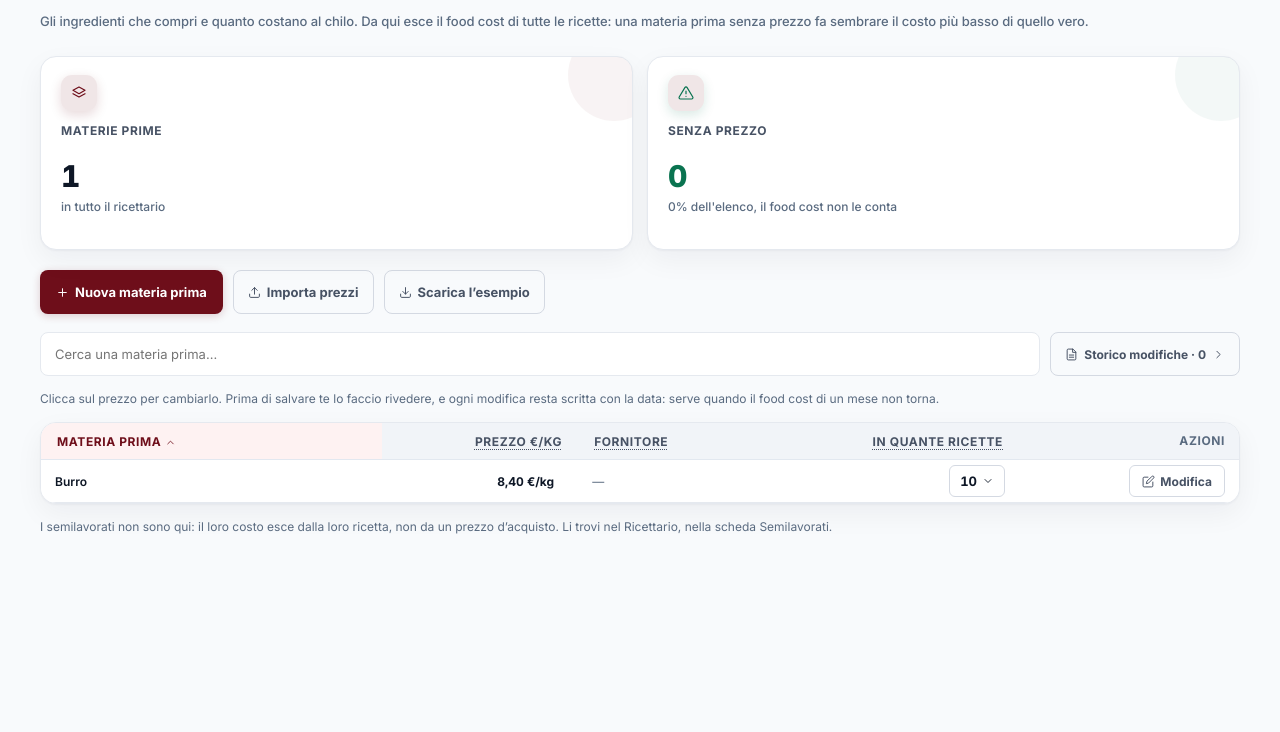
it: nessun prezzo inventato nei campi vuoti › l’esempio «12,50» resta dove serve: nel messaggio di errore
The image size is (1280, 732).
Click the button "Modifica": (1177, 481) [1129, 465, 1225, 497]
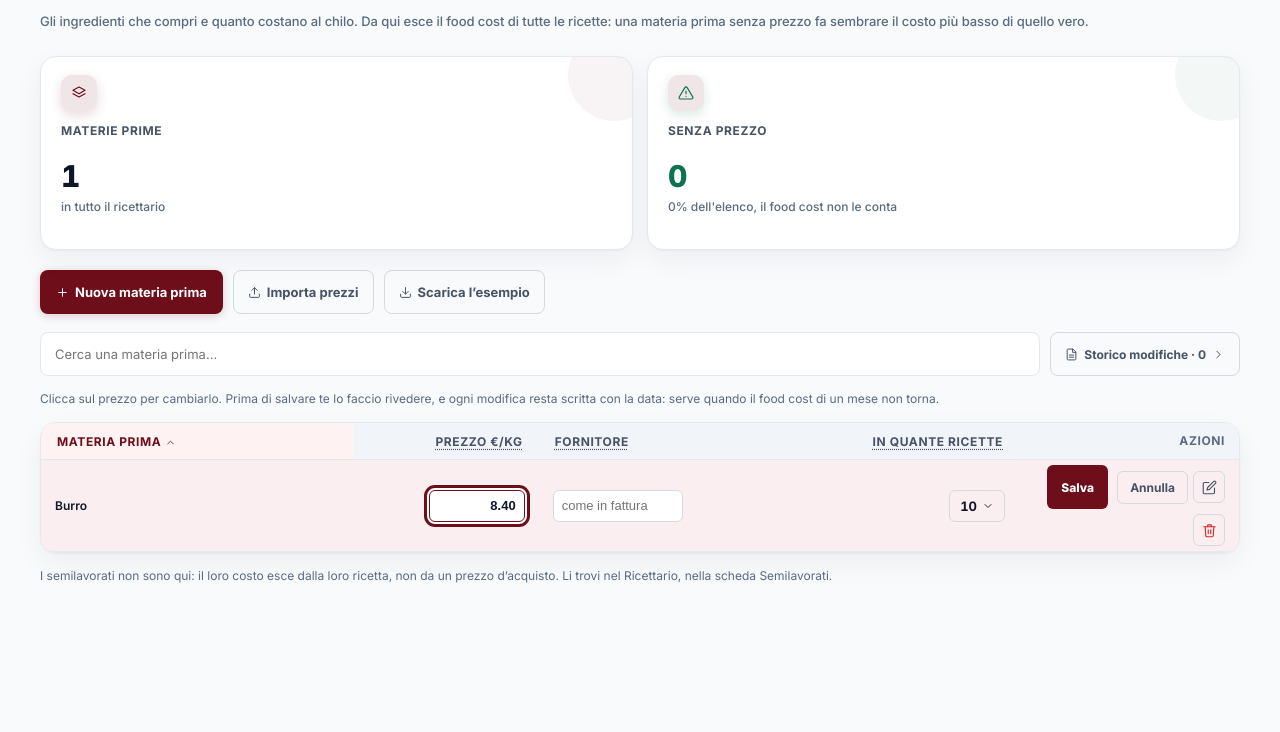
Replace the text in the field named "Prezzo per chilo di burro" with "12,5o": (477, 506) [429, 490, 525, 522]
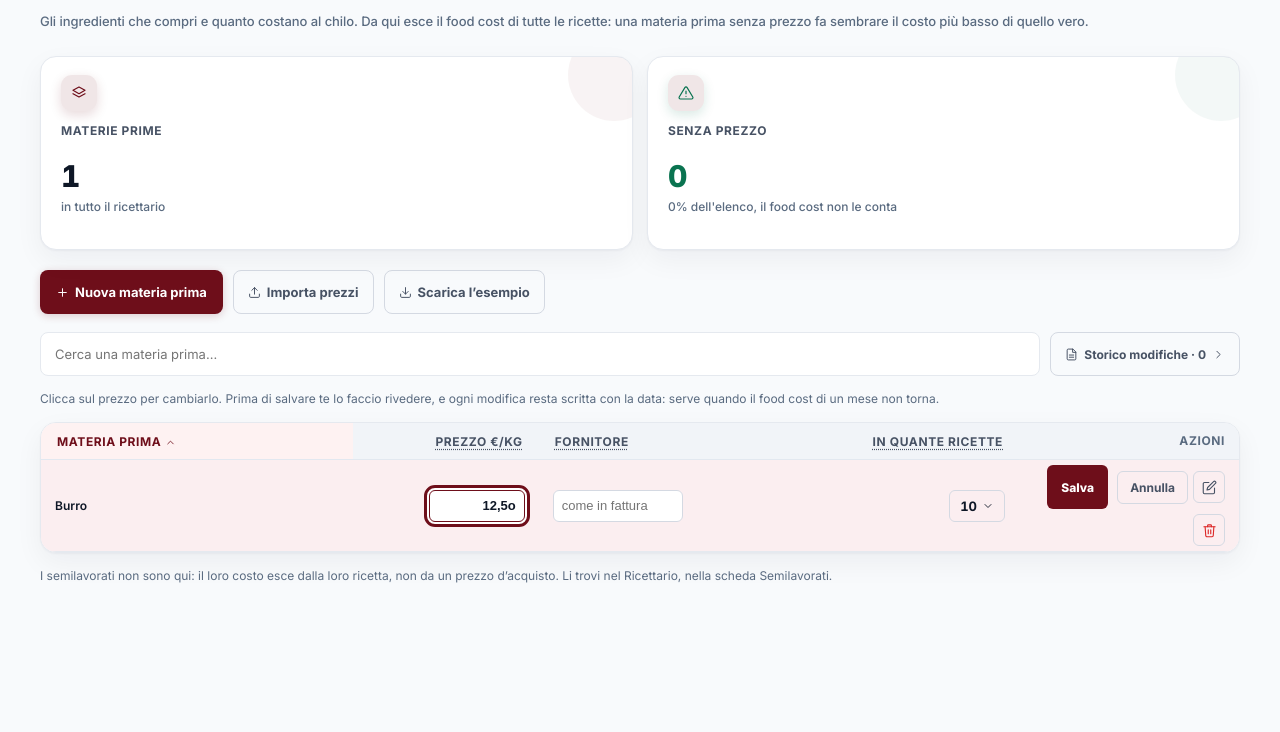
Click the button "Salva": (1078, 487) [1047, 465, 1108, 509]
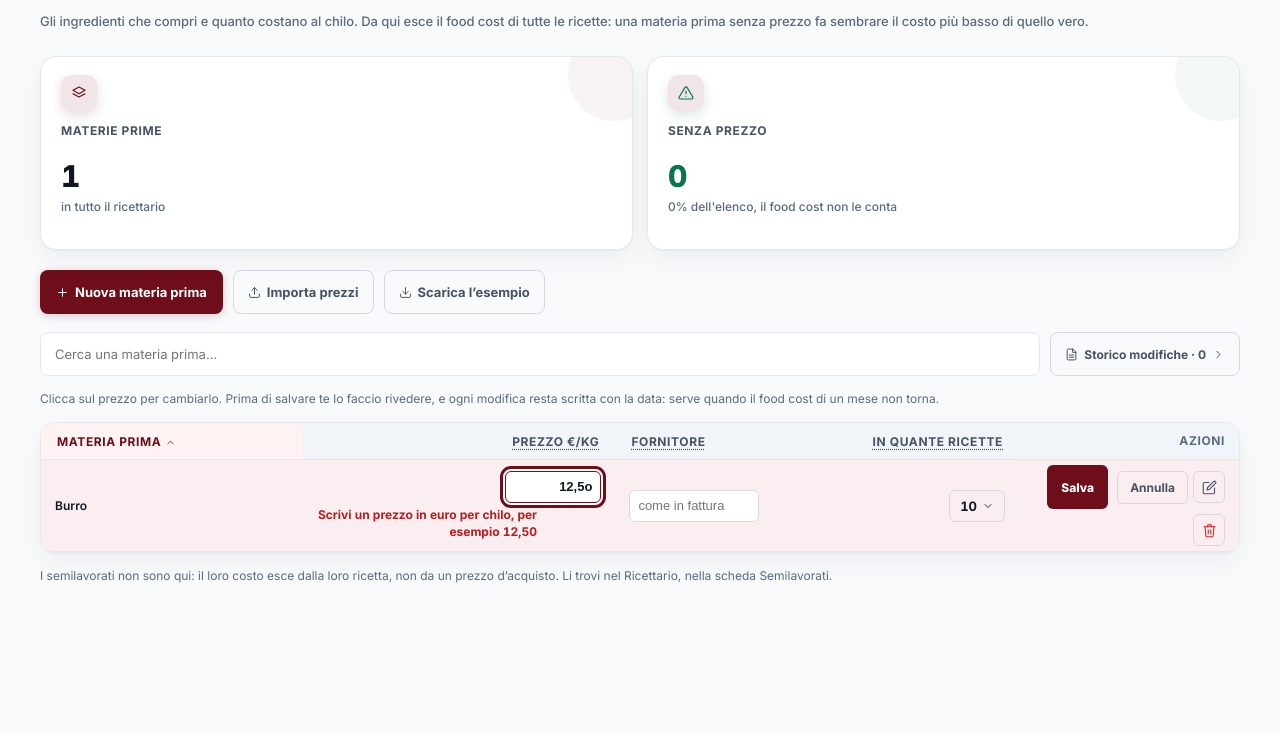
Expected: the text "12,50" is shown, [318, 507, 537, 539]
